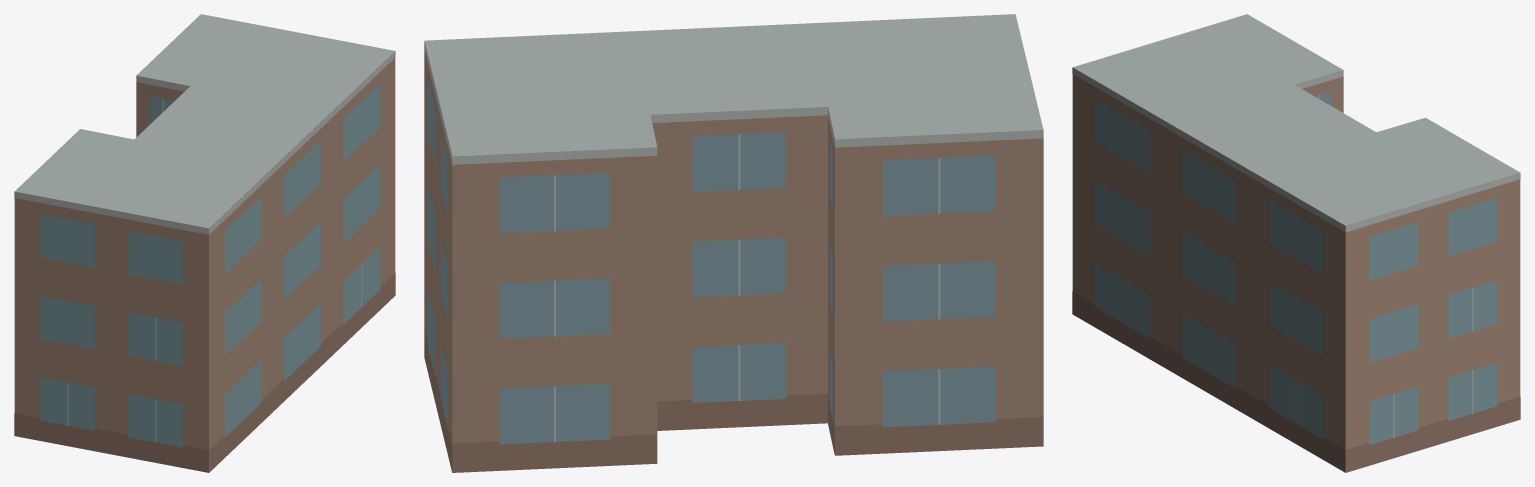
File: survey-upis-32712652.glb
3 views of the same model, side by side, from view 1: azimuth 30°, elevation 25°; view 2: azimuth 150°, elevation 25°; view 3: azimuth 270°, elevation 25° (orthographic). The views are drawn at different scales.
Parts seen in each view (by area): view 1: survey-upis-32712652.tmp; view 2: survey-upis-32712652.tmp; view 3: survey-upis-32712652.tmp.
Part boxes in pixels (box(x1,y1,x2,y2)): survey-upis-32712652.tmp: box(14, 14, 395, 472); survey-upis-32712652.tmp: box(424, 14, 1043, 472); survey-upis-32712652.tmp: box(1072, 14, 1520, 472).
Bounding box in the file's own units: 17.03 × 9.25 × 15.21.
